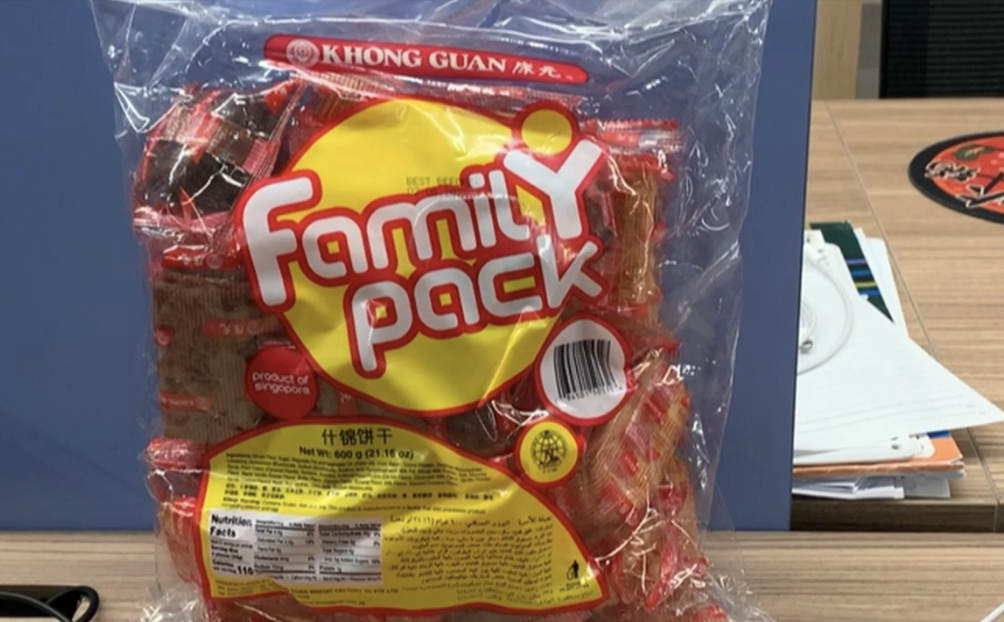cookies_600g-699g: (186, 114, 647, 591)
